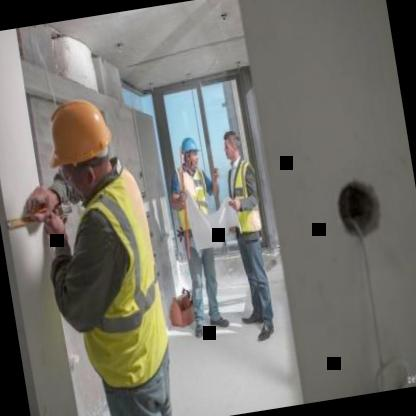head: (219, 122, 246, 168)
helmet: (36, 88, 126, 204), (174, 132, 204, 176)
